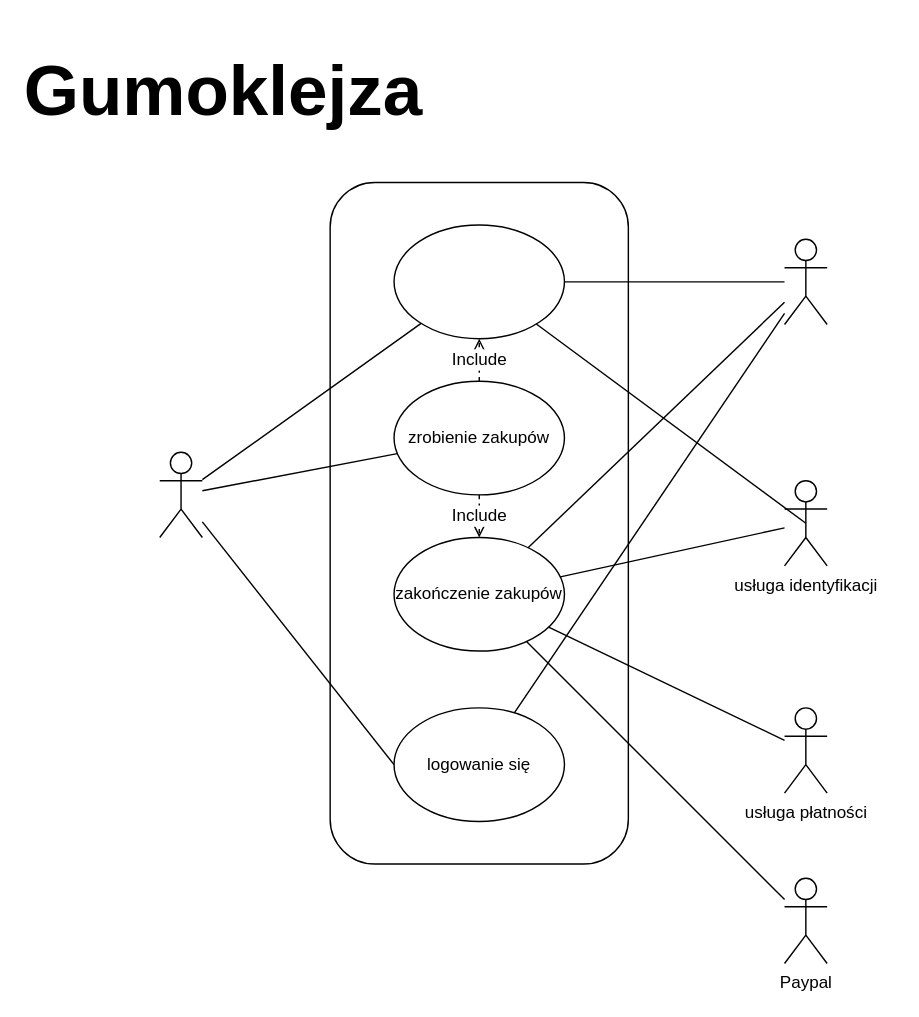
This 919x1017 diagram has some shape labels left out. Here are the shapes that lost their labels. From the top down, the centre of each, then its label:
At (478,281): "Widok przedmiotów".
At (805,281): "usługa uwierzytelnienia".
At (180,494): "Klient".
